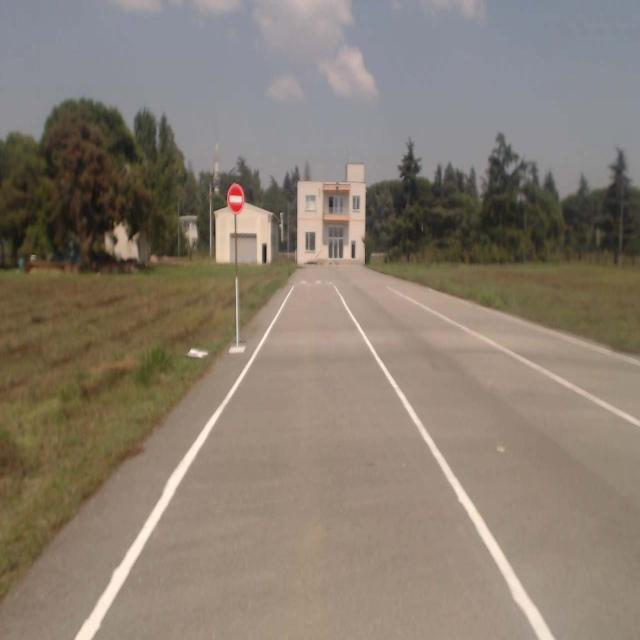girisyok: (227, 183, 244, 213)
